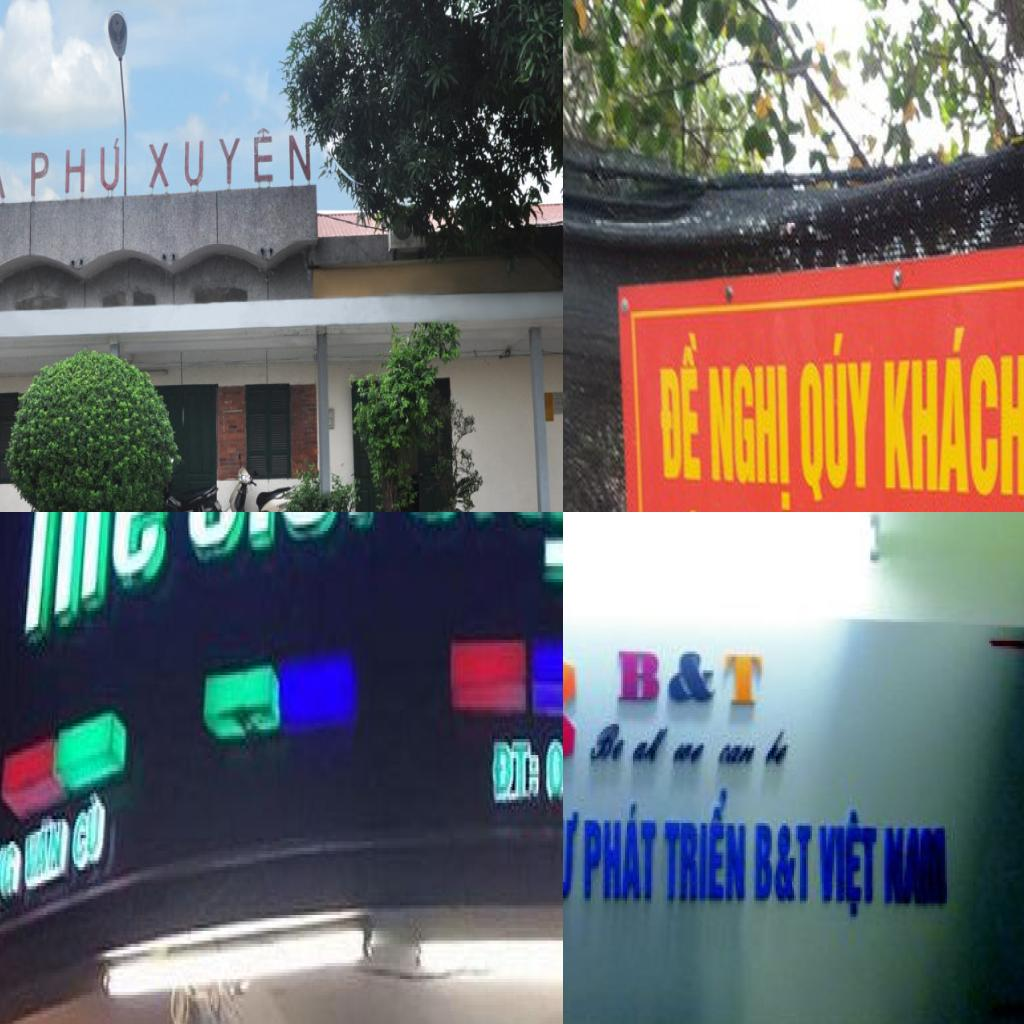text: (883, 320, 1024, 502), (20, 512, 188, 646), (798, 328, 874, 507), (706, 362, 793, 512), (661, 786, 754, 904), (583, 799, 659, 906), (816, 807, 881, 922), (658, 330, 704, 484), (25, 132, 127, 200), (882, 826, 951, 909), (752, 818, 816, 906), (490, 732, 542, 810), (665, 646, 724, 708), (25, 809, 66, 896), (71, 787, 106, 877), (721, 646, 768, 713), (615, 646, 663, 708), (0, 832, 25, 928), (587, 721, 631, 767), (563, 809, 582, 903), (713, 737, 764, 772), (629, 726, 671, 766), (669, 737, 716, 772)
